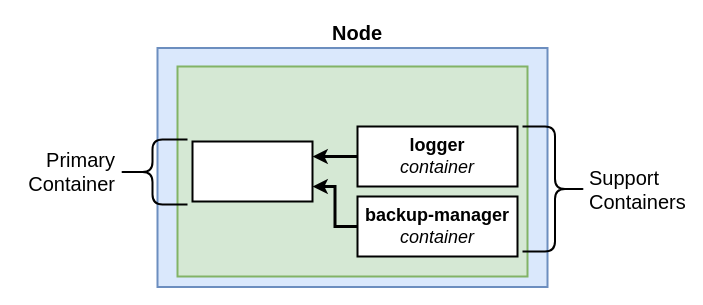
This 703x305 diagram has some shape labels left out. Here are the shapes that lost their labels. From the top down, the box of each, then its label:
(191, 140, 313, 202): postgres container
(176, 65, 528, 277): Pod
